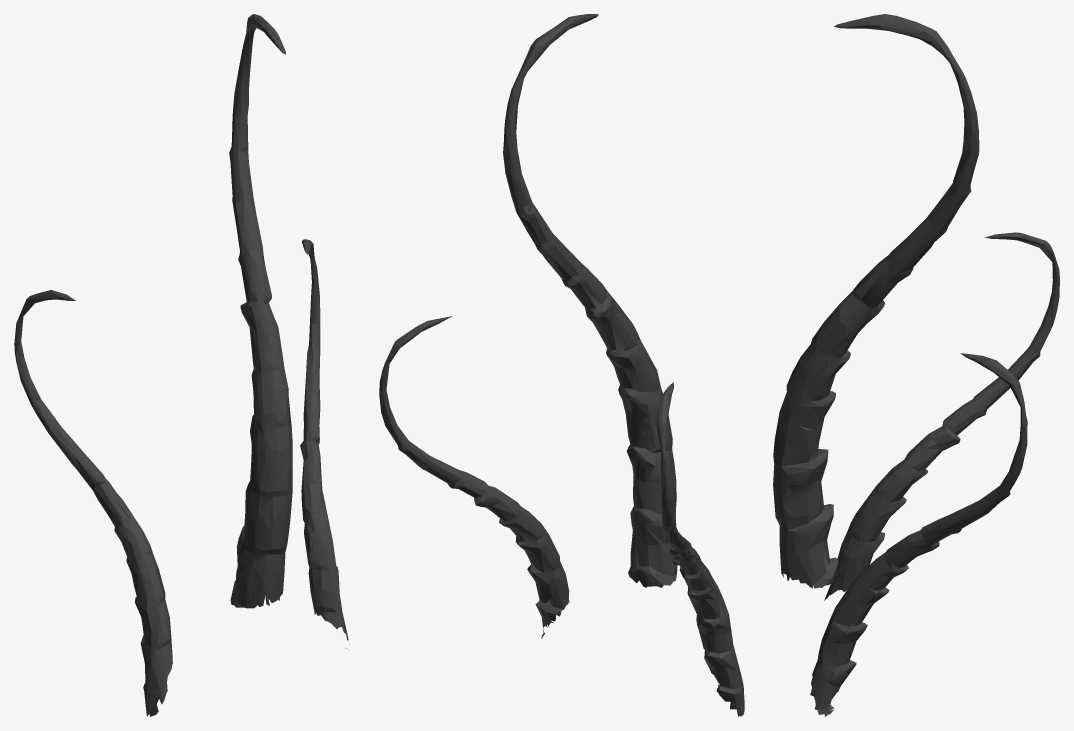
The model's file is cuernos.glb.
3 views of the same model, side by side, from view 1: azimuth 30°, elevation 25°; view 2: azimuth 150°, elevation 25°; view 3: azimuth 270°, elevation 25° (orthographic). The views are drawn at different scales.
Visible parts, largest first — view 1: Mesh; view 2: Mesh; view 3: Mesh.
Part boxes in pixels (x1,y1,x2,y2): Mesh: [14, 14, 349, 716]; Mesh: [379, 14, 744, 716]; Mesh: [773, 14, 1059, 716].
Size of the model in its own units: 5.09 by 10.83 by 4.04.
1 material, 1 textured.
